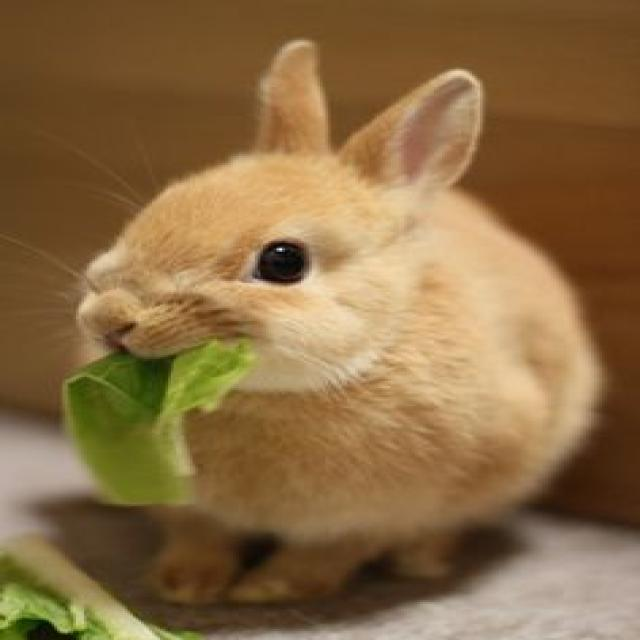Herbivorous: (73, 38, 605, 609)
